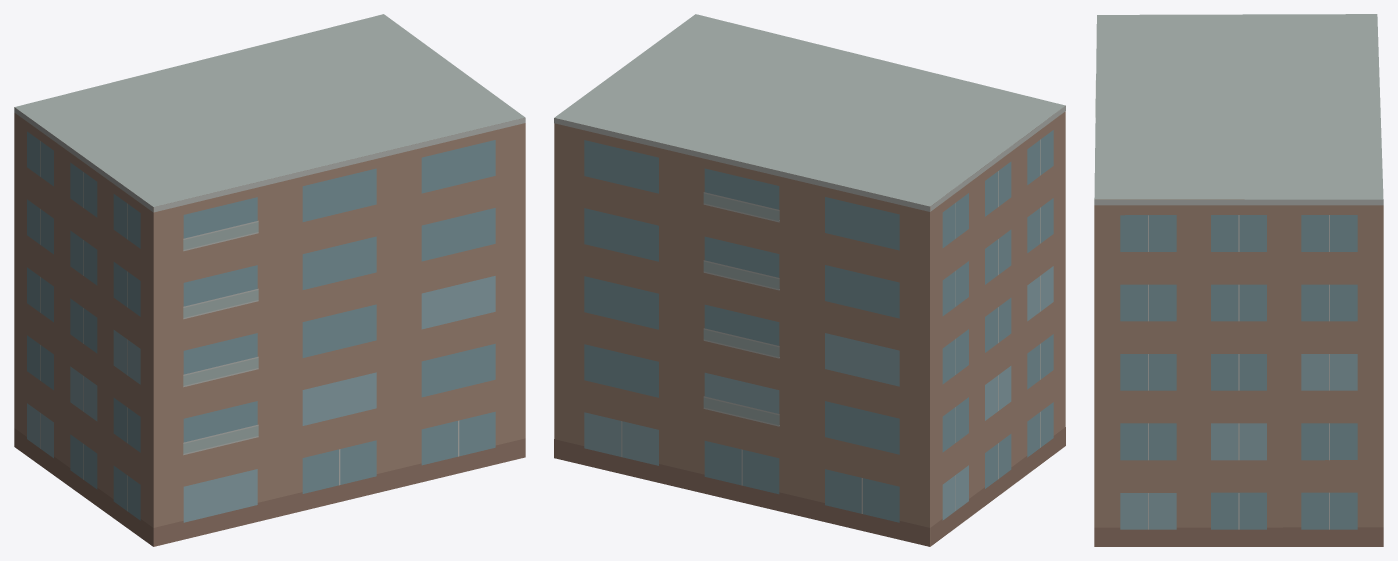
The model's file is survey-upis-32961178.glb.
3 renders of one model, left to right at view 1: azimuth 30°, elevation 25°; view 2: azimuth 150°, elevation 25°; view 3: azimuth 270°, elevation 25°, orthographic. The views are drawn at different scales.
Parts seen in each view (by area): view 1: survey-upis-32961178.tmp; view 2: survey-upis-32961178.tmp; view 3: survey-upis-32961178.tmp.
Boxes of the visible parts, x1,y1,x2,y2 form: survey-upis-32961178.tmp: [14, 14, 525, 546]; survey-upis-32961178.tmp: [554, 14, 1065, 546]; survey-upis-32961178.tmp: [1094, 14, 1383, 546].
Bounding box in the file's own units: 17.52 × 15.25 × 11.52.
